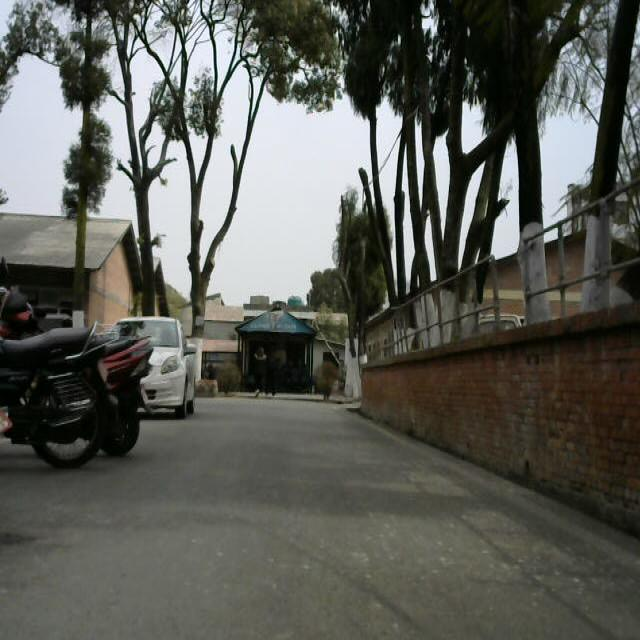Bike: (0, 261, 153, 474)
Buildings: (239, 300, 317, 394)
Car: (111, 301, 226, 429)
Road: (10, 396, 640, 637)
trees: (0, 0, 432, 261)
